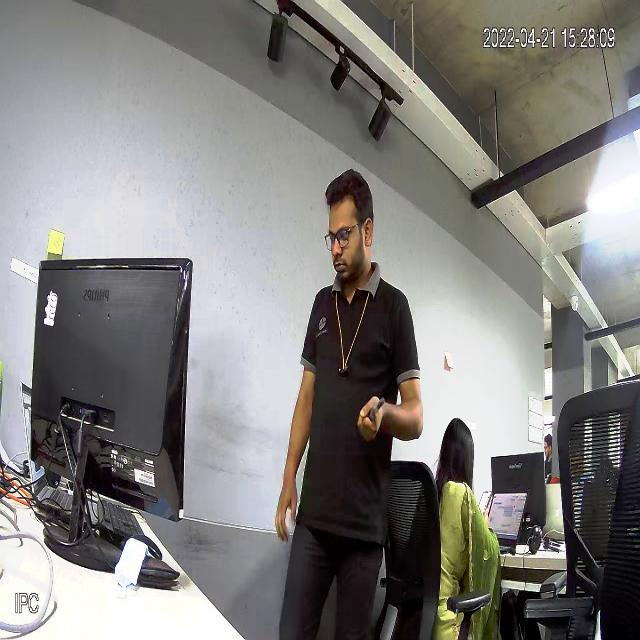Knife: (361, 377, 397, 438)
